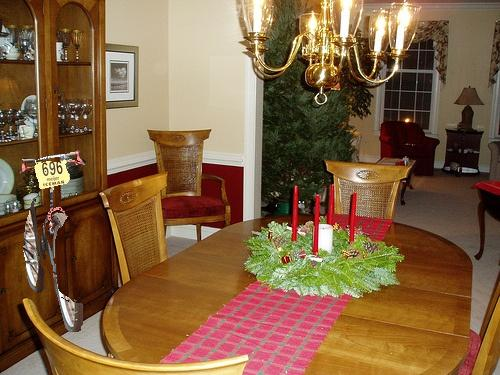tampered: (20, 151, 86, 332)
